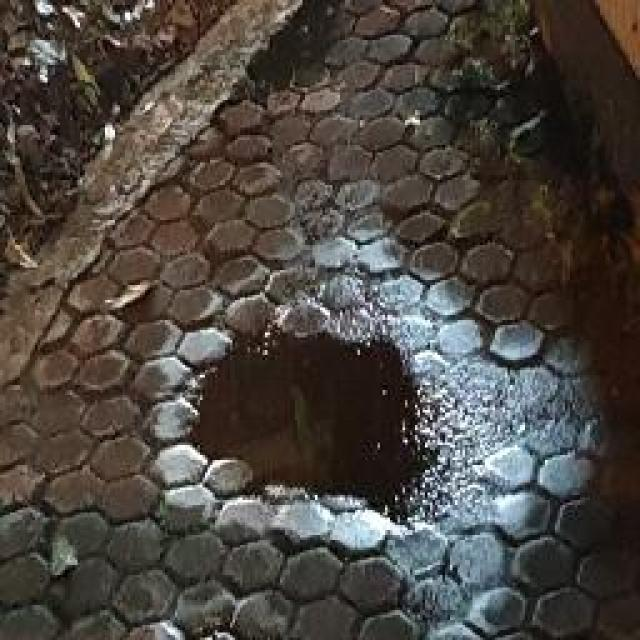puddle: (180, 334, 446, 518)
